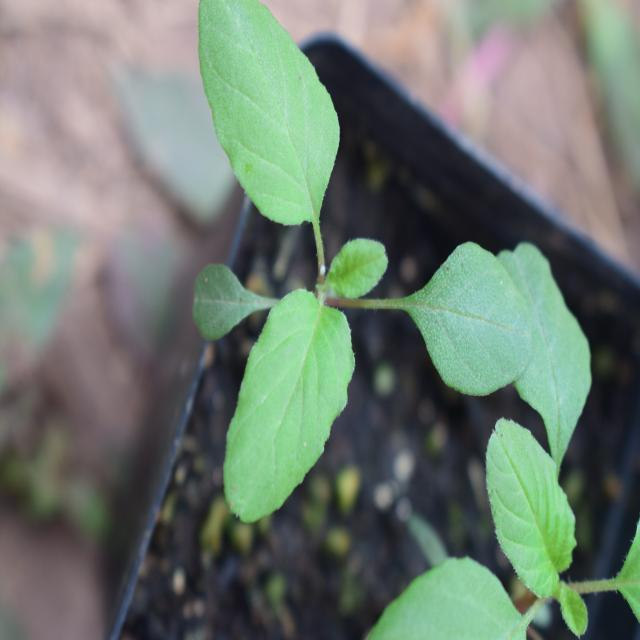pigweed: (180, 0, 524, 506)
